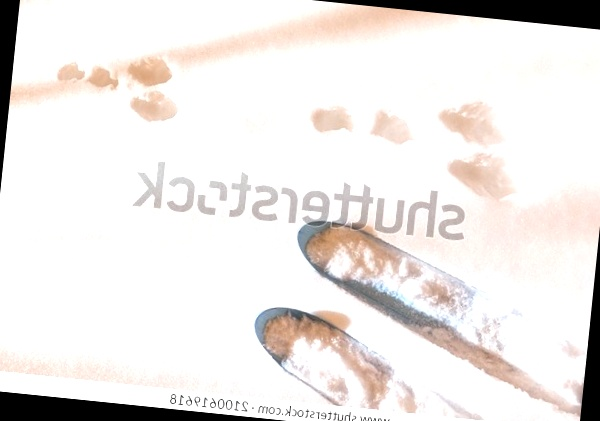lapin: (432, 143, 537, 212), (430, 87, 524, 152), (352, 97, 429, 160), (49, 49, 117, 94), (300, 93, 358, 145), (121, 46, 182, 90), (126, 85, 183, 127)
